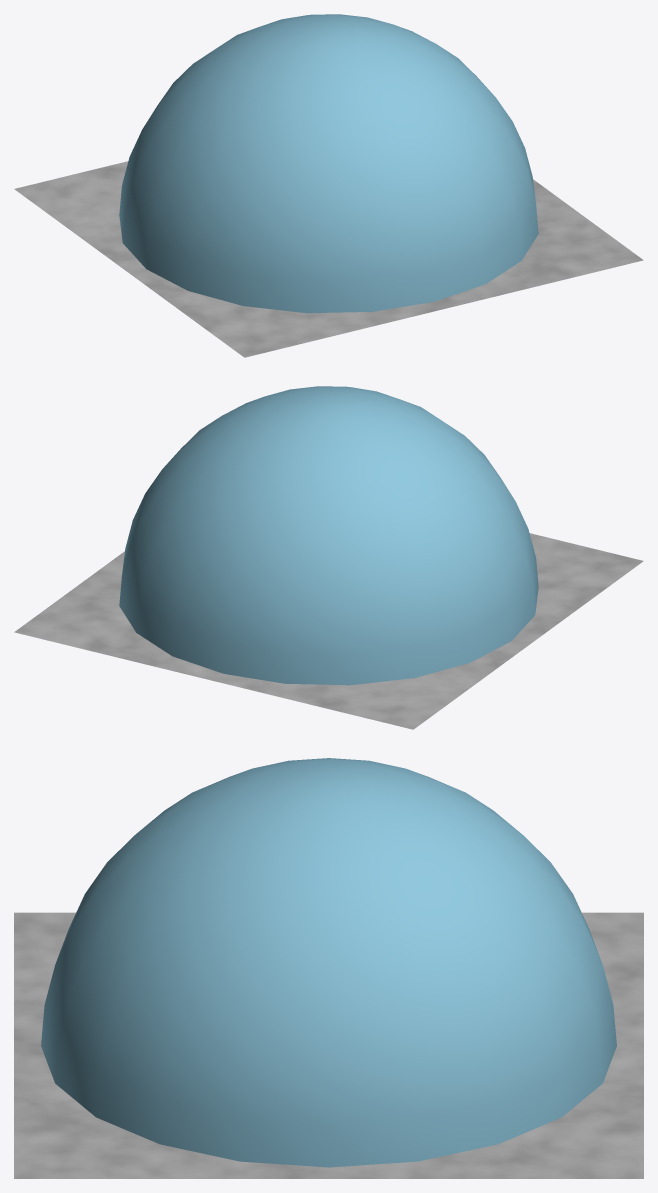
The model's file is sumon_stage.fbx.
3 renders of one model, top to bottom at view 1: azimuth 30°, elevation 25°; view 2: azimuth 150°, elevation 25°; view 3: azimuth 270°, elevation 25°, orthographic. The views are drawn at different scales.
Visible parts, largest first — view 1: pSphere1, pPlane1; view 2: pSphere1, pPlane1; view 3: pSphere1, pPlane1.
Boxes of the visible parts, left/top/right/bottom form: pSphere1: left=119, top=14, right=538, bottom=313; pPlane1: left=14, top=161, right=643, bottom=357; pSphere1: left=119, top=386, right=538, bottom=685; pPlane1: left=14, top=533, right=643, bottom=729; pSphere1: left=41, top=758, right=616, bottom=1167; pPlane1: left=14, top=912, right=643, bottom=1178.
Size of the model in its own units: 35 by 16 by 35.
